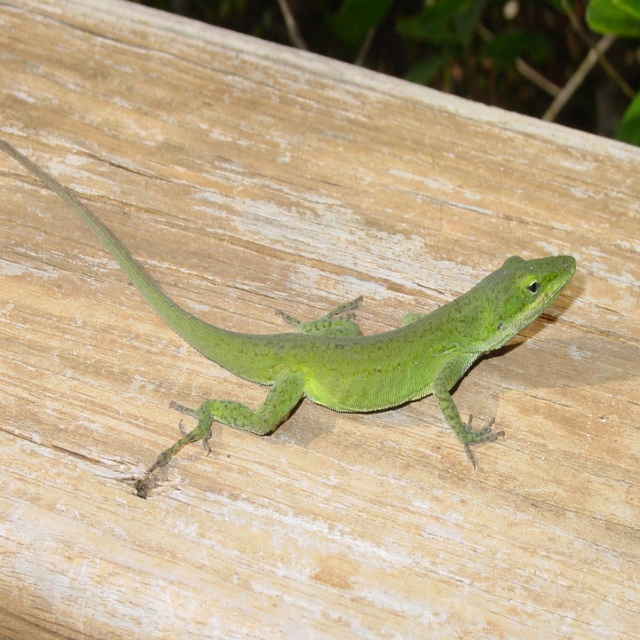Lizard: (0, 146, 576, 465)
